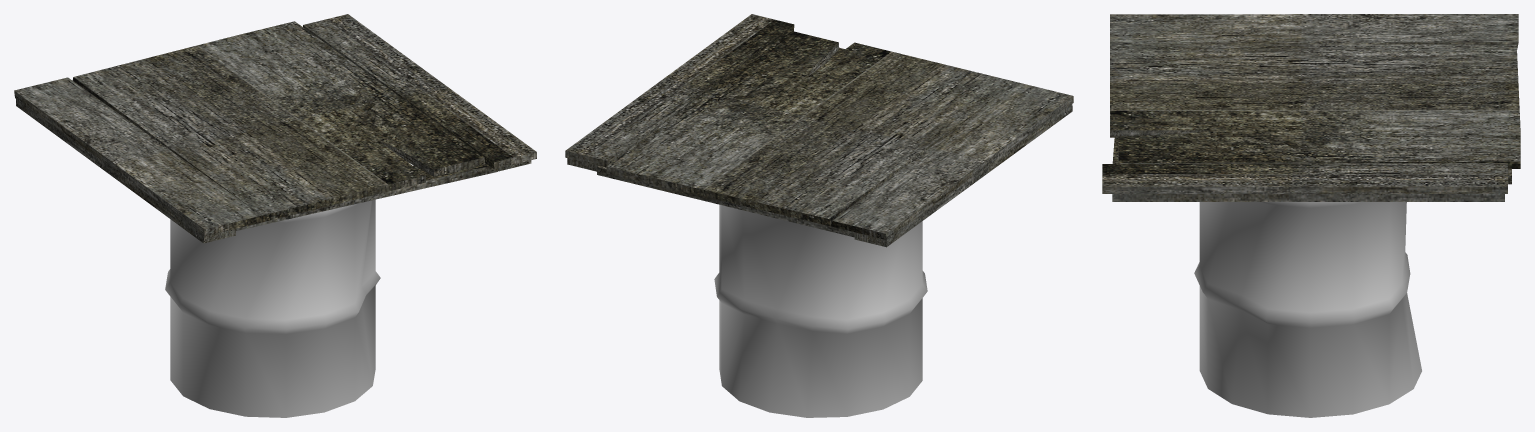
Rendered from table.obj.
The picture shows the model from 3 angles, left to right: view 1: azimuth 30°, elevation 25°; view 2: azimuth 150°, elevation 25°; view 3: azimuth 270°, elevation 25°; orthographic projection. The views are drawn at different scales.
Visible parts, largest first — view 1: 0.027, 1.017; view 2: 0.027, 1.017; view 3: 0.027, 1.017.
Part boxes in pixels (x1=…): 0.027: x1=14, y1=14, x2=536, y2=243; 1.017: x1=165, y1=199, x2=380, y2=417; 0.027: x1=565, y1=14, x2=1073, y2=247; 1.017: x1=714, y1=204, x2=927, y2=417; 0.027: x1=1102, y1=14, x2=1520, y2=201; 1.017: x1=1194, y1=202, x2=1421, y2=417.
Size of the model in its own units: 1.36 by 0.9976 by 1.39.
